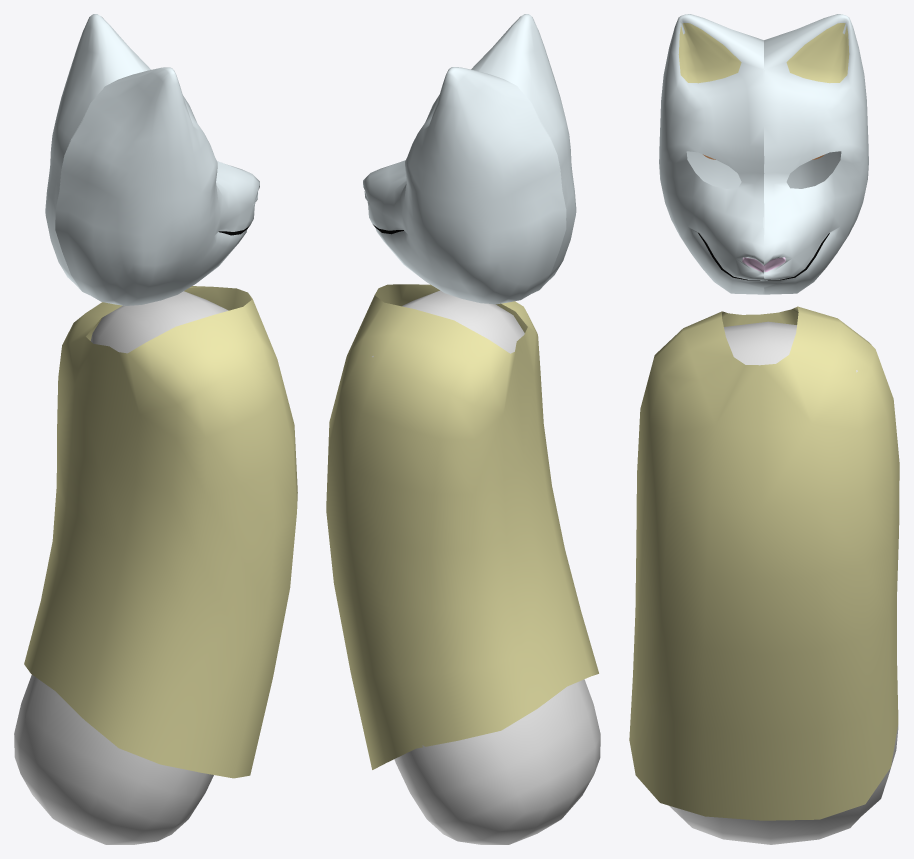
File: NPC 6.fbx
3 views of the same model, side by side, from view 1: azimuth 30°, elevation 25°; view 2: azimuth 150°, elevation 25°; view 3: azimuth 270°, elevation 25° (orthographic). The views are drawn at different scales.
Visible parts, largest first — view 1: T-shirt.006, Mask.004, body.006; view 2: T-shirt.006, Mask.004, body.006; view 3: T-shirt.006, Mask.004, body.006.
Part boxes in pixels (box(x1,y1,x2,y2)): T-shirt.006: box(24, 286, 297, 778); Mask.004: box(45, 14, 259, 305); body.006: box(14, 291, 228, 844); T-shirt.006: box(326, 284, 598, 769); Mask.004: box(363, 14, 576, 304); body.006: box(372, 290, 600, 844); T-shirt.006: box(629, 306, 899, 820); Mask.004: box(659, 14, 868, 294); body.006: box(669, 321, 898, 844).
Size of the model in its own units: 2.26 by 7.21 by 2.12.
